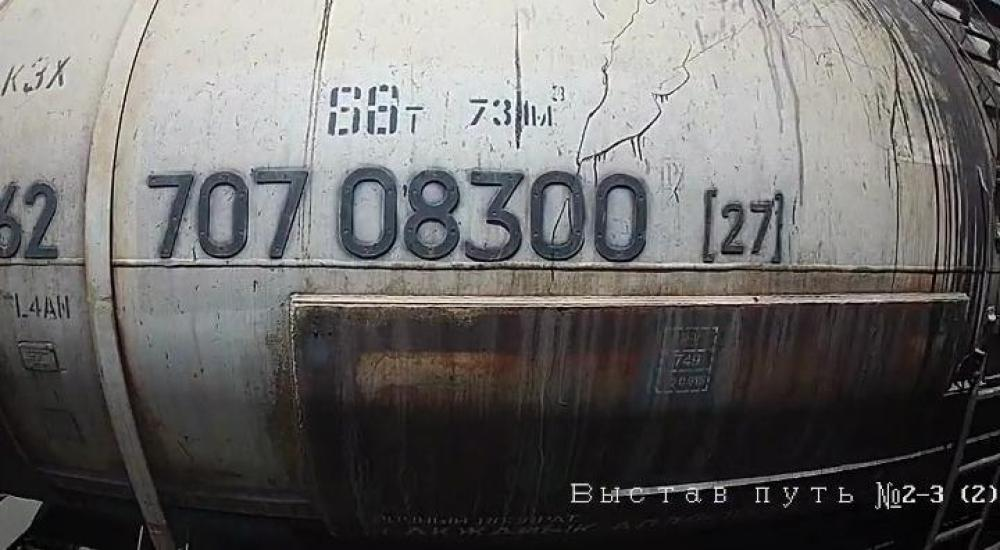Wagon-number: (140, 163, 654, 263)
